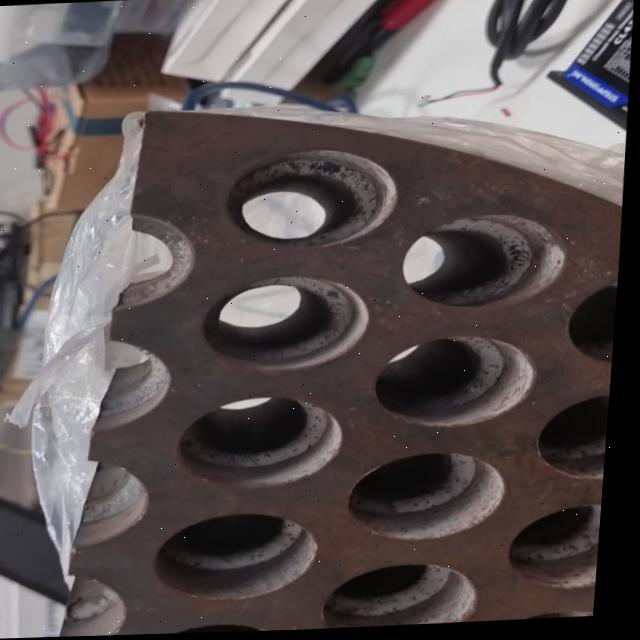Hole: (220, 147, 403, 253), (201, 274, 377, 376), (404, 214, 574, 315), (179, 396, 352, 493), (373, 335, 544, 433), (156, 511, 330, 606), (351, 452, 516, 547), (327, 563, 489, 631), (512, 506, 610, 595), (538, 395, 616, 487)
